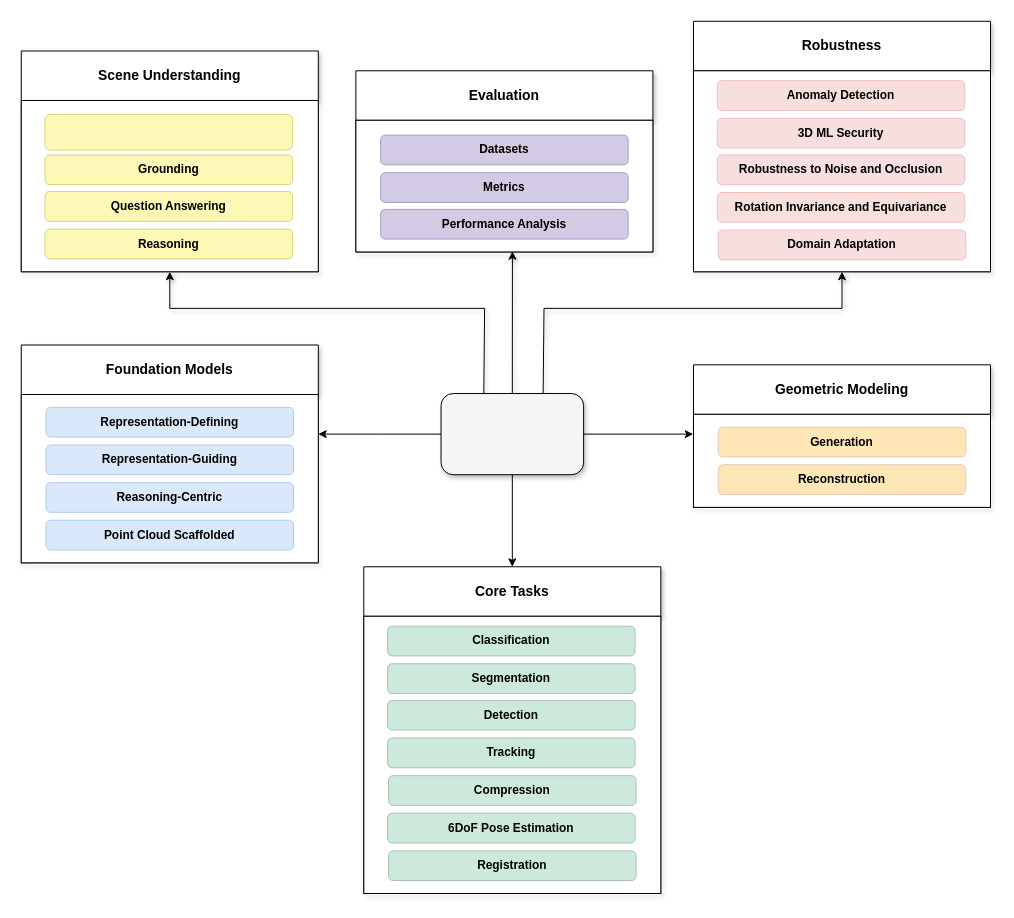
Image size: 1014x918. Some labels were removed from this diagram. The shapes that lost their labels are listed below. From the top down, each one's centre as x and y in pixels, then its label:
[168,131]: Captioning
[513,435]: 3D Point Cloud
